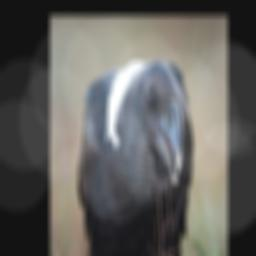Crow: (79, 57, 194, 256)
